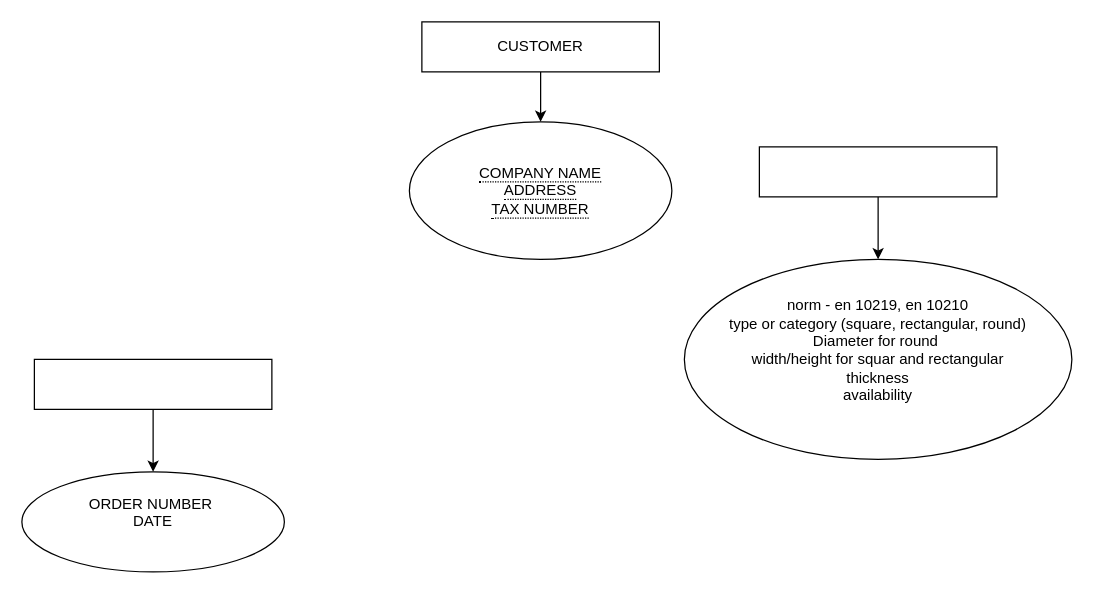
The diagram is 1094 pixels wide and 594 high, and some of its shapes have lost their labels. The box of each missing label's shape, as (x1, y1, x2, y2) in pixels:
ORDER: (33, 358, 272, 409)
PRODUCT: (758, 146, 997, 197)
